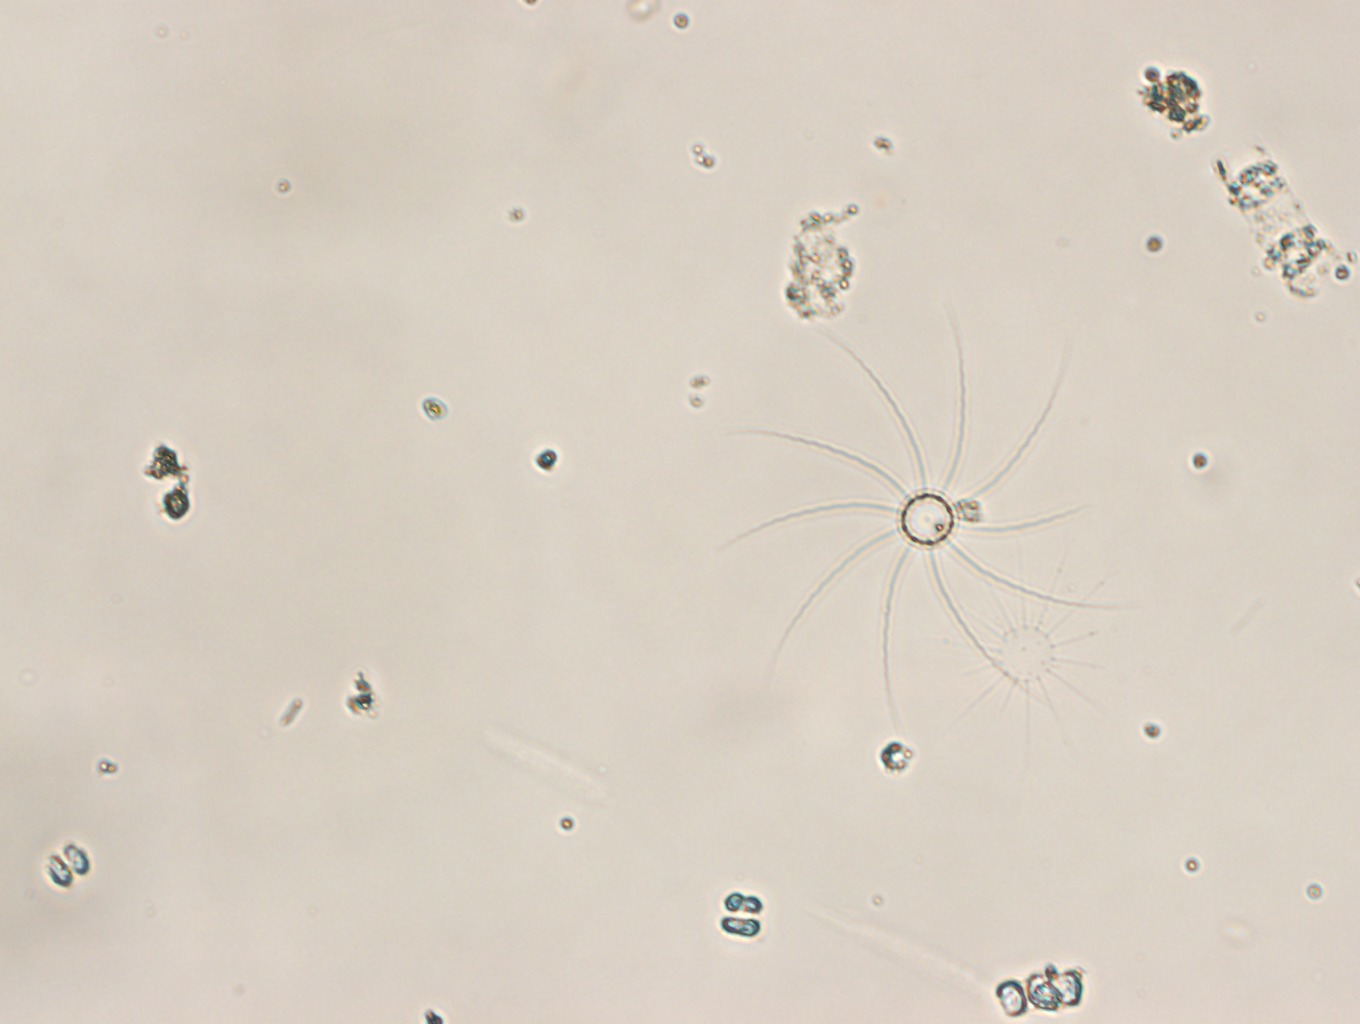bacteriastrum: (719, 305, 1133, 742), (943, 561, 1129, 739)
skeletonema: (1214, 143, 1346, 305)
